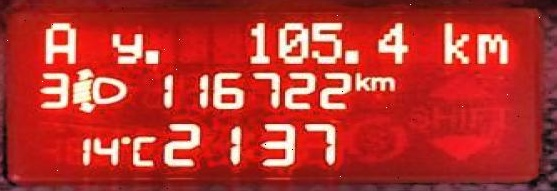-: (141, 46, 161, 65), (341, 47, 360, 66)
0: (275, 20, 310, 62)
1: (243, 18, 268, 64), (189, 71, 213, 112), (156, 70, 179, 110), (224, 121, 243, 165), (74, 133, 92, 169)
2: (159, 120, 201, 167), (281, 70, 315, 109), (318, 71, 351, 108)
3: (259, 122, 298, 166), (36, 71, 69, 108)
4: (370, 20, 413, 64), (89, 134, 117, 170)
5: (308, 19, 343, 63)
6: (211, 69, 244, 109)
7: (302, 117, 337, 166), (248, 69, 281, 106)
X: (37, 19, 81, 65), (437, 19, 474, 66), (477, 19, 514, 66), (129, 133, 163, 169), (107, 30, 141, 61), (352, 71, 372, 94), (370, 74, 395, 91)
